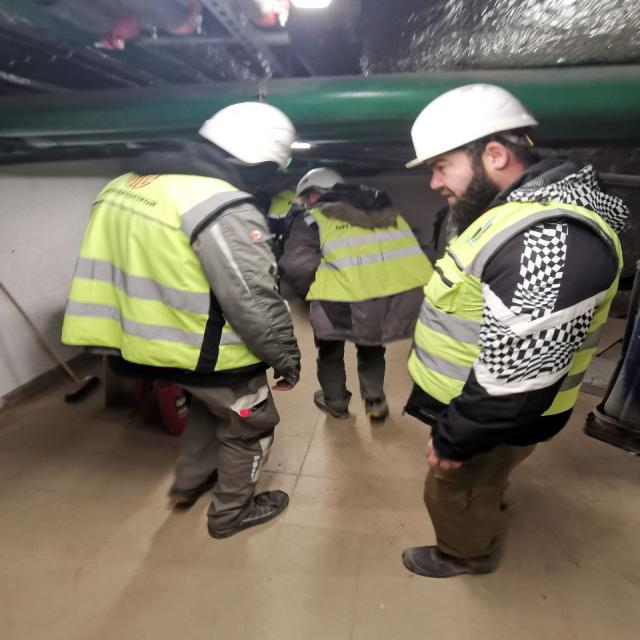Helmet: (407, 85, 543, 212), (198, 105, 300, 182), (297, 170, 344, 206)
